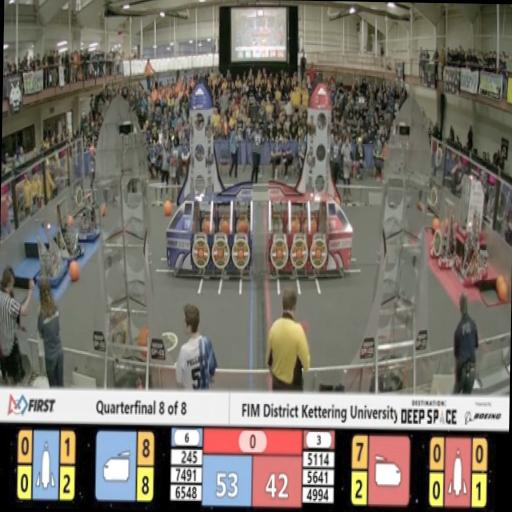robot: (30, 213, 70, 285), (426, 196, 458, 273), (456, 172, 490, 244), (52, 194, 88, 260), (459, 212, 487, 292), (73, 182, 101, 243)
